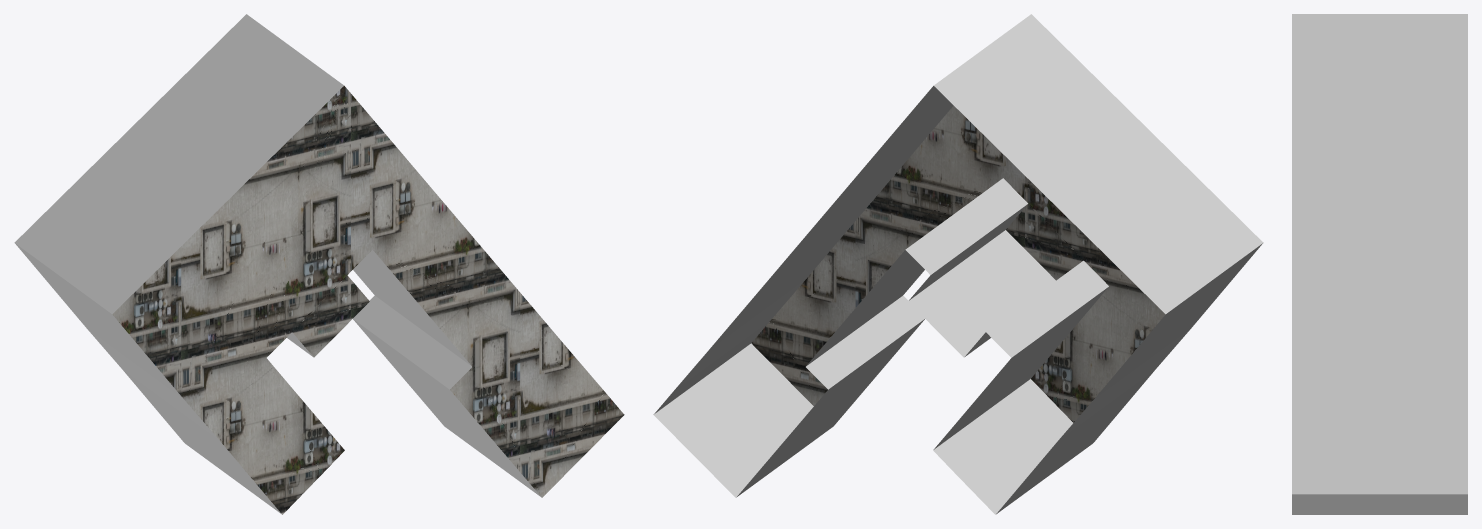
The model's file is geospecific_1706.obj.
3 views of the same model, side by side, from view 1: azimuth 30°, elevation 25°; view 2: azimuth 150°, elevation 25°; view 3: azimuth 270°, elevation 25° (orthographic). The views are drawn at different scales.
Parts seen in each view (by area): view 1: Building; view 2: Building; view 3: Building.
Boxes of the visible parts, box(x1,y1,x2,y2) form: Building: box(14, 14, 624, 514); Building: box(653, 14, 1263, 514); Building: box(1292, 14, 1467, 514).
Bounding box in the file's own units: 27.2 × 23.37 × 9.
